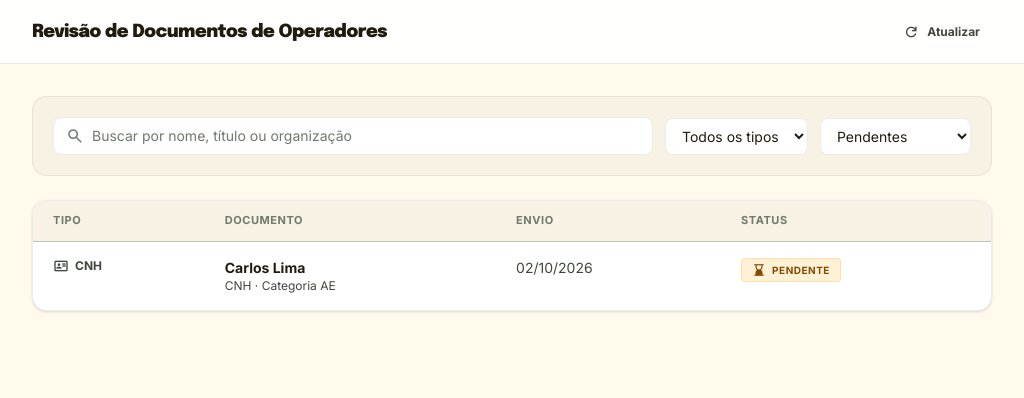
Test: warns when the queue cannot be loaded and reloads both lists on refresh
This screenshot has width=1024, height=398.
Click the button "Atualizar".
click(942, 32)  # box 891,18 -> 992,46
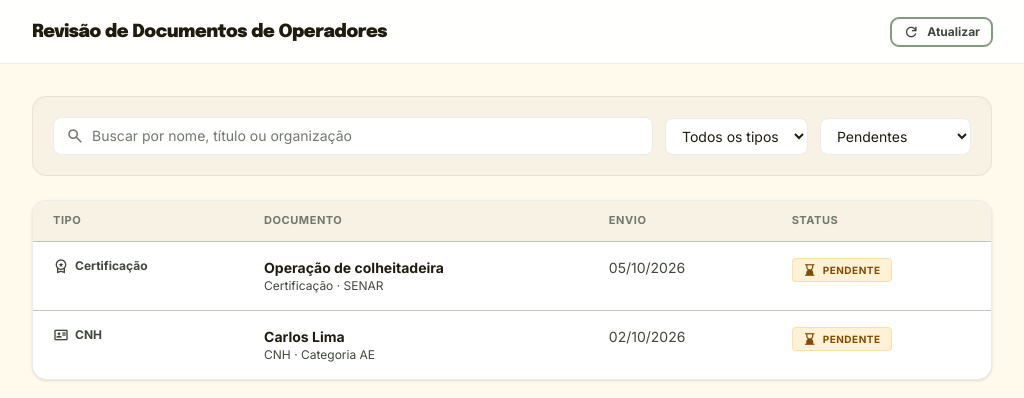
Expected: the text "Operação de colheitadeira" is shown, 264,259 -> 444,276
